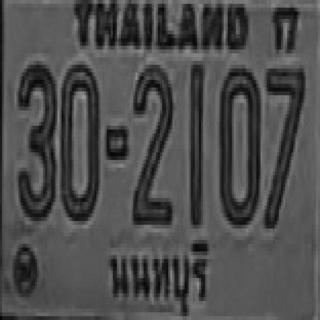N00: (218, 65, 258, 225), (60, 61, 98, 221)
N01: (189, 61, 203, 225)
N02: (131, 63, 172, 223)
N03: (16, 61, 56, 217)
N07: (262, 65, 304, 225)
P37: (105, 238, 214, 314)
